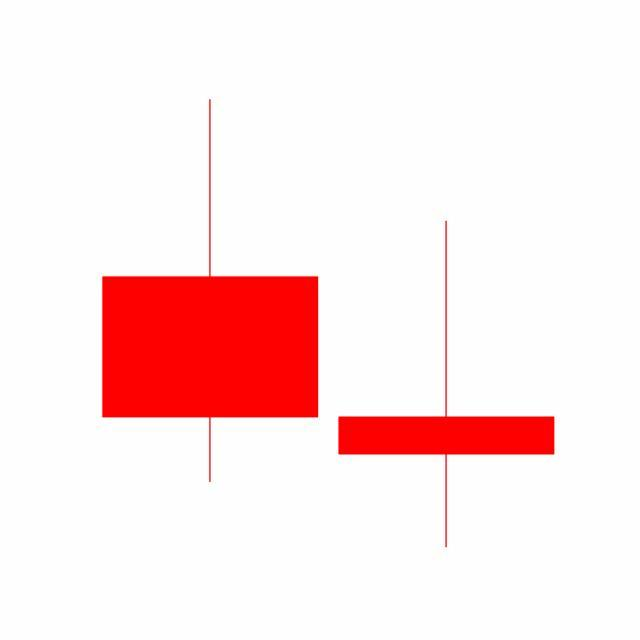Spinning Top: (328, 217, 566, 551)
